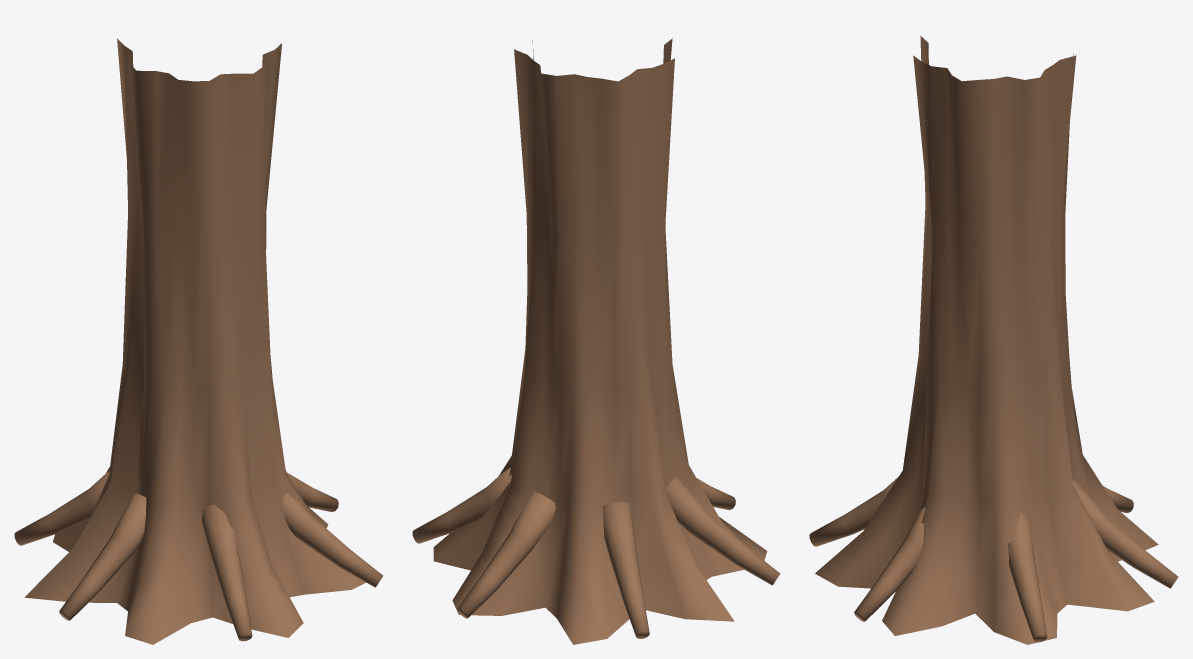
The model's file is hero_tree_trunk.glb.
3 views of the same model, side by side, from view 1: azimuth 30°, elevation 25°; view 2: azimuth 150°, elevation 25°; view 3: azimuth 270°, elevation 25° (orthographic).
Parts seen in each view (by area): view 1: SM_Forest_HeroTreeTrunk; view 2: SM_Forest_HeroTreeTrunk; view 3: SM_Forest_HeroTreeTrunk.
Boxes of the visible parts, x1,y1,x2,y2 form: SM_Forest_HeroTreeTrunk: [14, 38, 383, 644]; SM_Forest_HeroTreeTrunk: [412, 38, 780, 644]; SM_Forest_HeroTreeTrunk: [809, 36, 1178, 644].
Size of the model in its own units: 11.09 by 17.3 by 11.03.
